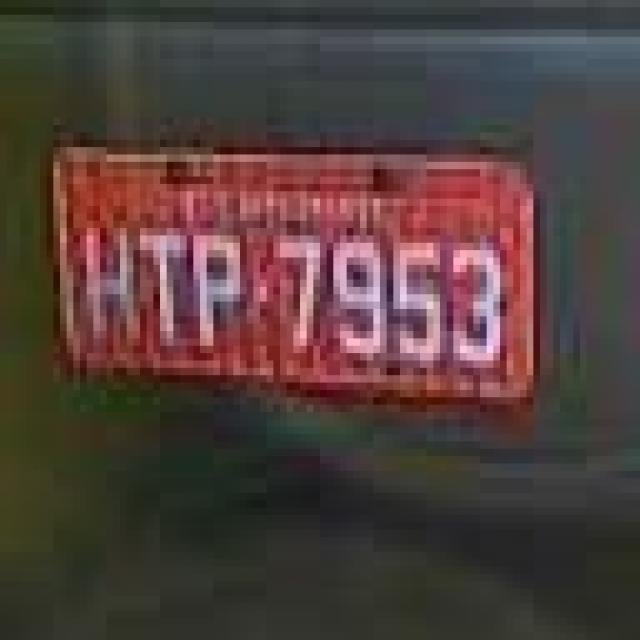3: (447, 228, 503, 389)
5: (388, 235, 450, 379)
7: (274, 224, 328, 363)
9: (331, 224, 392, 374)
H: (83, 214, 139, 352)
P: (194, 223, 249, 360)
T: (117, 206, 193, 352)
